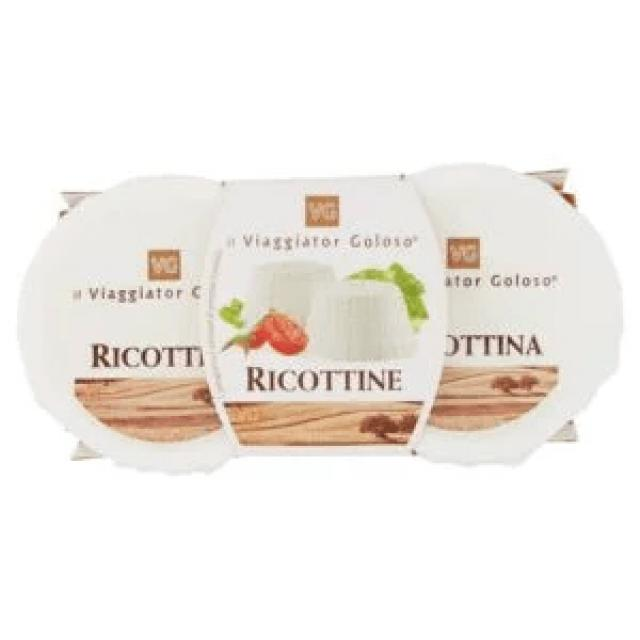cheese: (13, 162, 625, 478)
